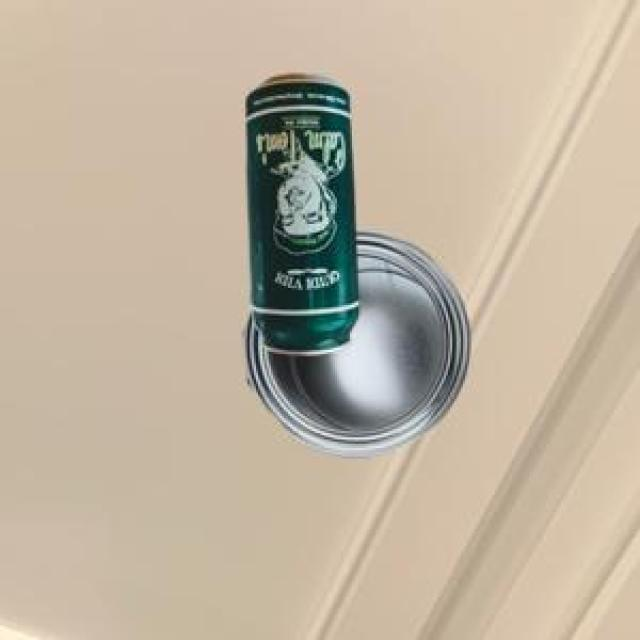Can: (240, 227, 466, 453), (244, 71, 355, 351)
